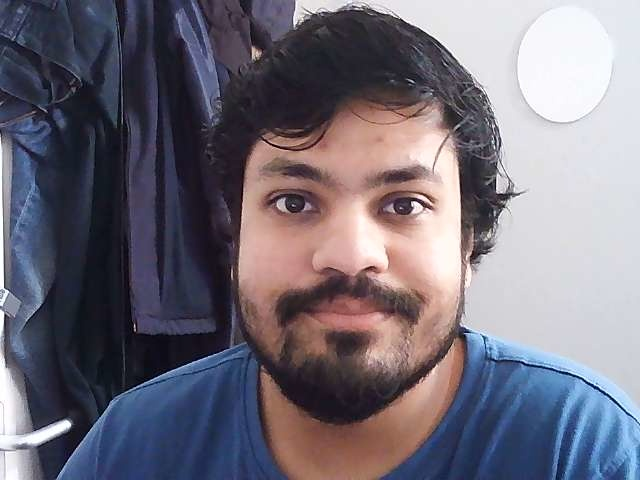Face: (188, 4, 507, 429)
